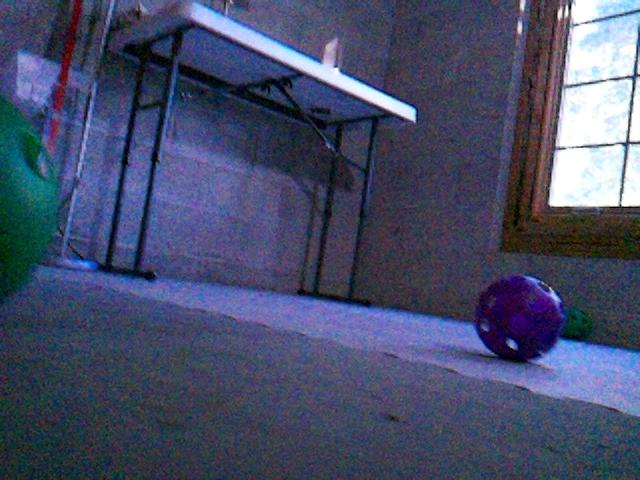Green: (0, 93, 64, 313), (563, 307, 593, 341)
Purple: (471, 273, 565, 363)
